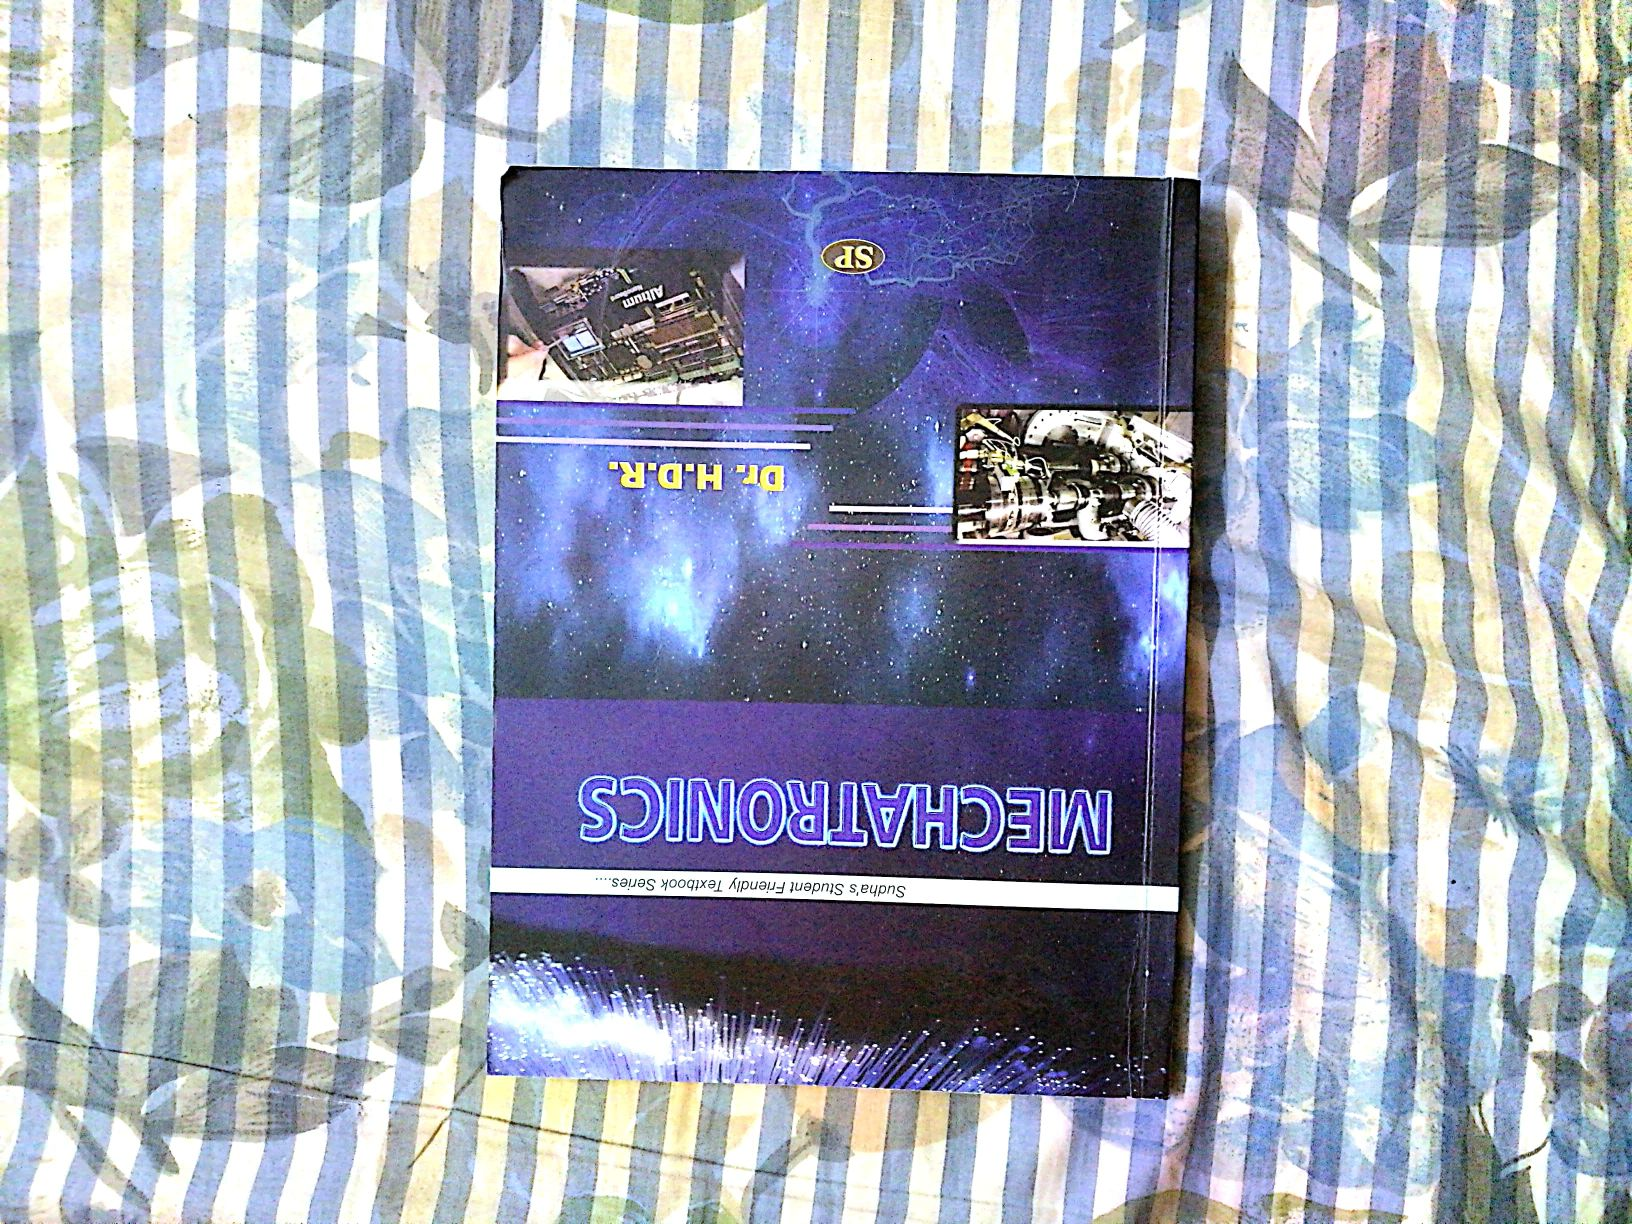mechatronics: (419, 129, 1264, 1113)
